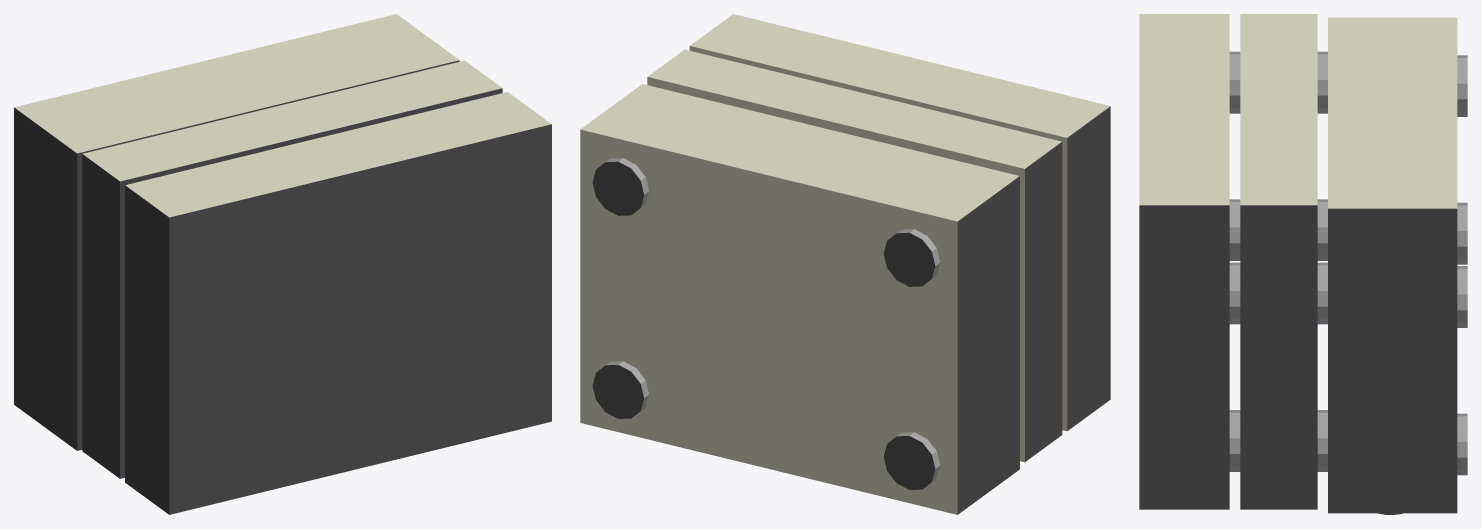
3 views of the same model, side by side, from view 1: azimuth 30°, elevation 25°; view 2: azimuth 150°, elevation 25°; view 3: azimuth 270°, elevation 25° (orthographic). The views are drawn at different scales.
Parts seen in each view (by area): view 1: stack of home stereo equipment; view 2: stack of home stereo equipment; view 3: stack of home stereo equipment.
Part boxes in pixels (<box>): stack of home stereo equipment: <box>14,14,551,514</box>; stack of home stereo equipment: <box>580,14,1110,514</box>; stack of home stereo equipment: <box>1139,14,1467,514</box>.
Size of the model in its own units: 17.5 by 13.9 by 12.7.
